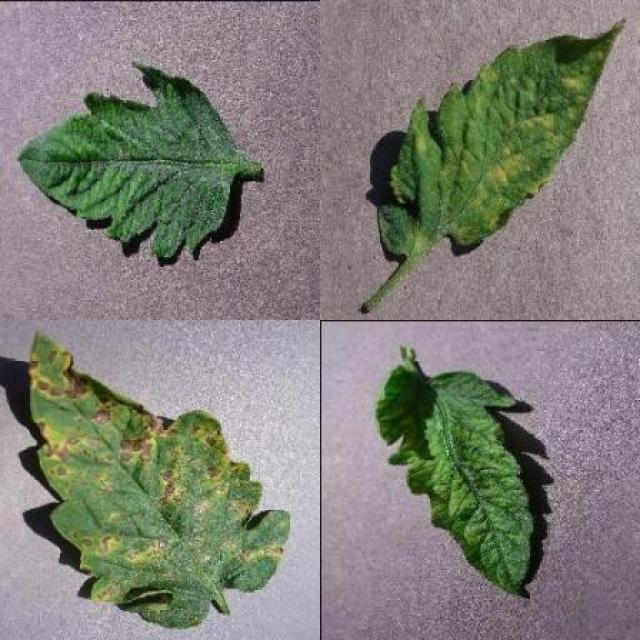Leaf Mold: (380, 20, 626, 257)
Mosaic Virus: (17, 60, 244, 260), (373, 362, 533, 598)
Septoria: (29, 330, 291, 630)
